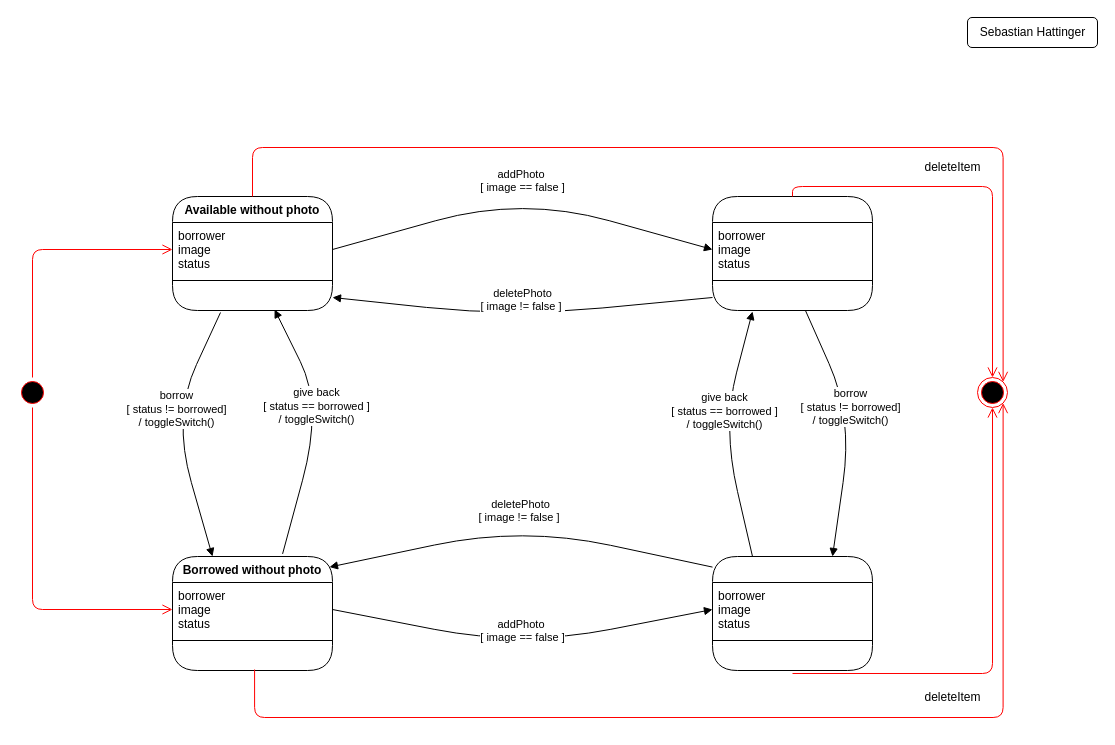
Some shapes in this 1115 by 745 pixel diagram are drawn without their labels. Here are the shapes that lost their labels. From the top down, the box of each, then its label:
(712, 196, 872, 310): Available with photo
(712, 556, 872, 670): Borrowed with photo
